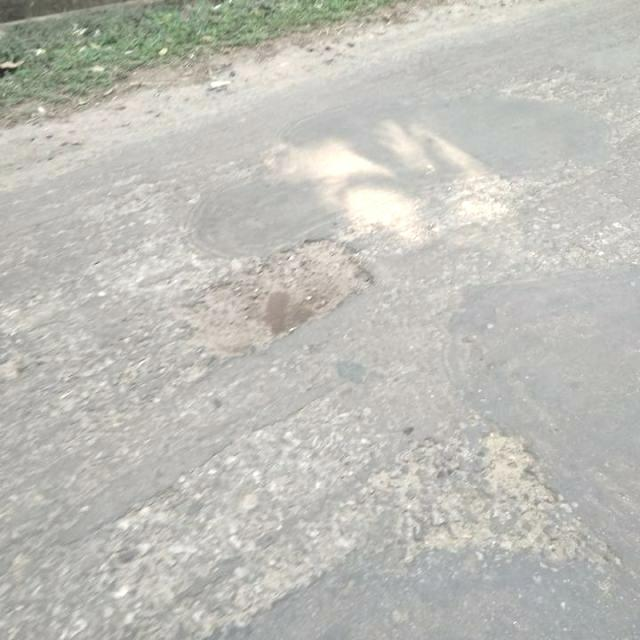Pothole: (170, 235, 379, 364), (480, 424, 561, 508)
